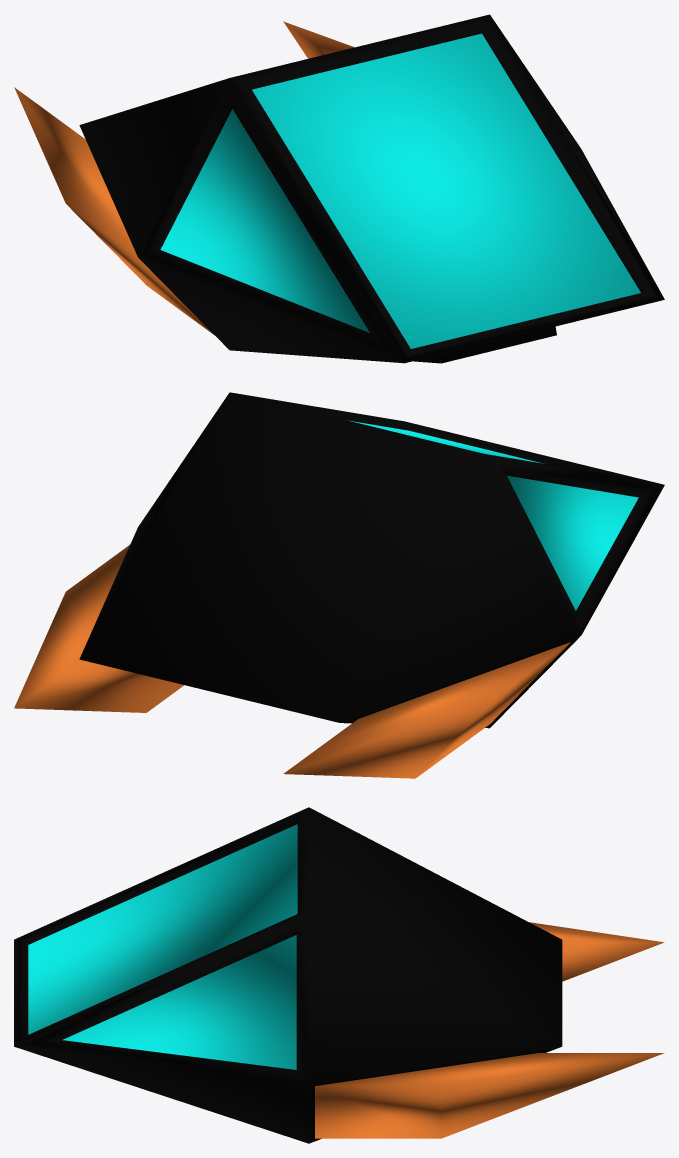
Rendered from Spaceship.fbx.
The picture shows the model from 3 angles, top to bottom: view 1: azimuth 30°, elevation 25°; view 2: azimuth 150°, elevation 25°; view 3: azimuth 270°, elevation 25°; orthographic projection. The views are drawn at different scales.
Parts seen in each view (by area): view 1: Cube, Cube.002; view 2: Cube, Cube.002; view 3: Cube, Cube.002.
Part boxes in pixels (x1,y1,x2,y2): Cube: [79, 14, 664, 363]; Cube.002: [14, 21, 354, 335]; Cube: [79, 392, 664, 728]; Cube.002: [14, 545, 570, 778]; Cube: [14, 807, 562, 1143]; Cube.002: [315, 922, 664, 1138].
Size of the model in its own units: 341 by 200 by 514.
